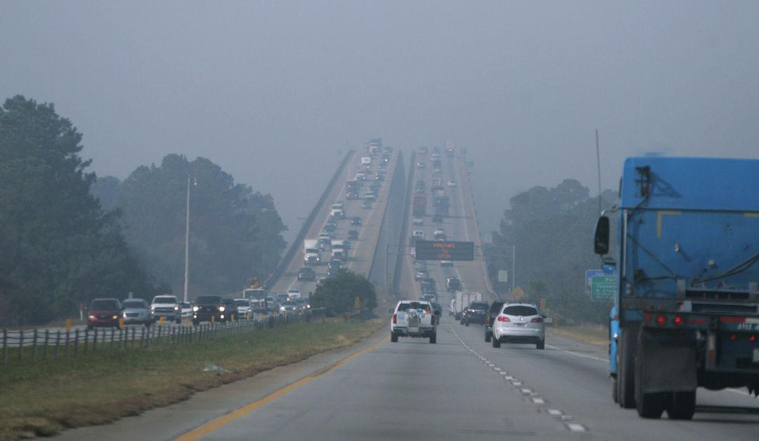bus: (593, 157, 759, 420), (242, 288, 269, 316), (300, 238, 323, 267), (329, 239, 348, 263), (411, 193, 427, 217), (345, 179, 360, 201), (434, 199, 450, 218), (431, 188, 447, 207), (370, 137, 383, 152), (445, 140, 456, 157), (360, 156, 372, 170), (368, 142, 379, 156), (431, 146, 441, 159), (433, 159, 442, 173)
car: (490, 300, 547, 351), (388, 298, 441, 344), (480, 299, 522, 343), (84, 297, 126, 330), (191, 295, 230, 325), (149, 294, 186, 325), (452, 290, 483, 321), (121, 298, 152, 323), (464, 300, 490, 327), (228, 296, 255, 322), (217, 298, 241, 323), (420, 301, 442, 326), (459, 305, 481, 325), (447, 296, 465, 317), (445, 275, 465, 293), (176, 301, 194, 321), (262, 296, 282, 314), (279, 300, 298, 317), (290, 297, 309, 313), (297, 266, 316, 282), (329, 203, 346, 220), (273, 292, 292, 307), (421, 293, 437, 309), (327, 258, 343, 274), (420, 277, 437, 292), (300, 298, 316, 313), (287, 288, 303, 303), (316, 277, 334, 290), (414, 268, 430, 282), (408, 234, 424, 248), (422, 285, 437, 299), (439, 254, 455, 267), (318, 232, 332, 245), (433, 226, 446, 239), (413, 259, 427, 271), (323, 228, 337, 240), (412, 229, 425, 241), (412, 214, 425, 226), (315, 239, 327, 252), (347, 229, 360, 241), (410, 246, 423, 257), (326, 268, 339, 279), (324, 219, 337, 230), (364, 191, 377, 202), (415, 179, 427, 190), (430, 177, 442, 188), (413, 249, 425, 259), (434, 238, 446, 248), (432, 212, 444, 222), (350, 216, 362, 226), (354, 172, 367, 181), (368, 184, 379, 194), (448, 179, 458, 189), (413, 185, 424, 194), (361, 200, 372, 209), (418, 146, 428, 155), (375, 172, 385, 181), (378, 158, 388, 167), (417, 161, 426, 170), (343, 240, 351, 250), (371, 179, 381, 187), (357, 166, 367, 174), (430, 154, 439, 162)
